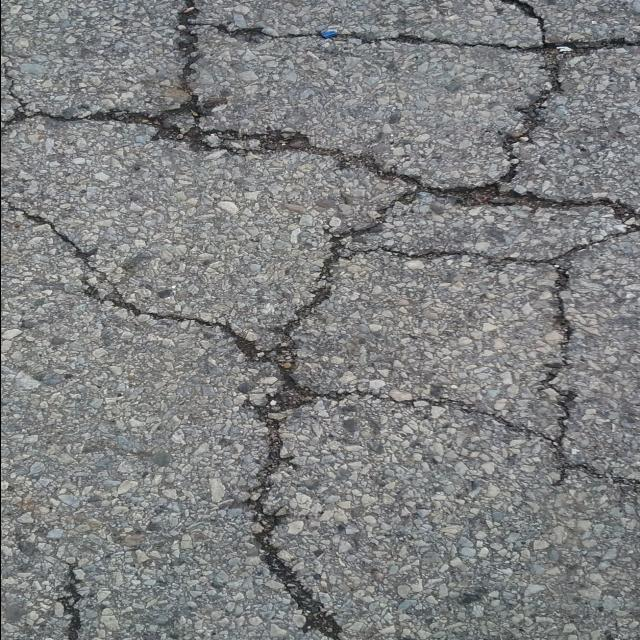Crack: (0, 0, 640, 640), (58, 565, 81, 640)
